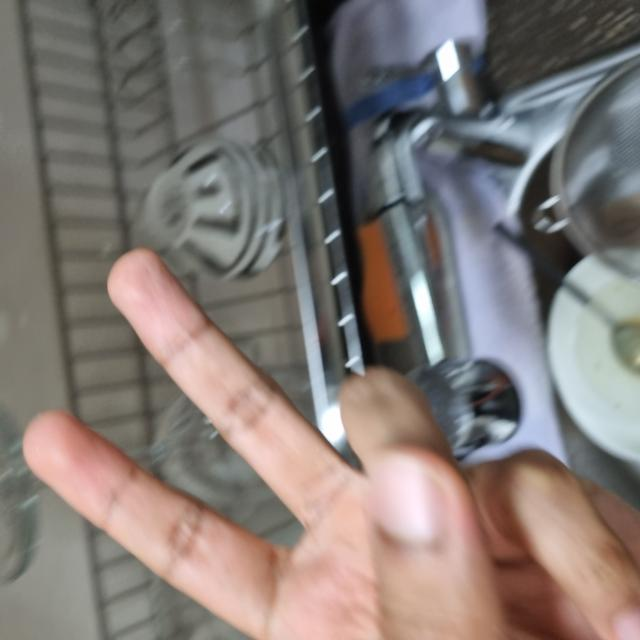Scissors: (0, 23, 386, 638)
